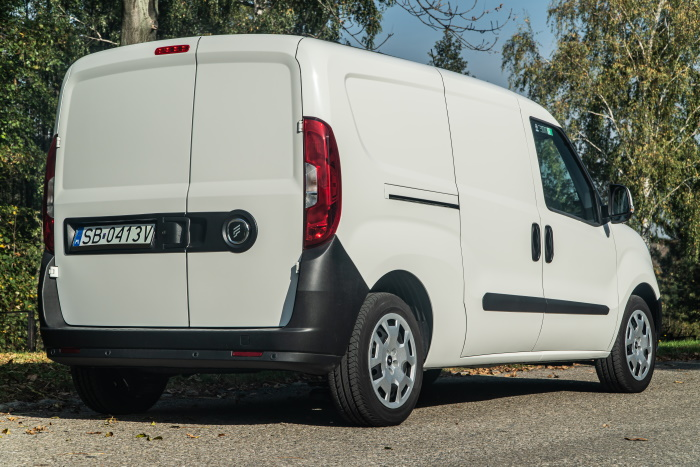tablica: (73, 226, 153, 244)
